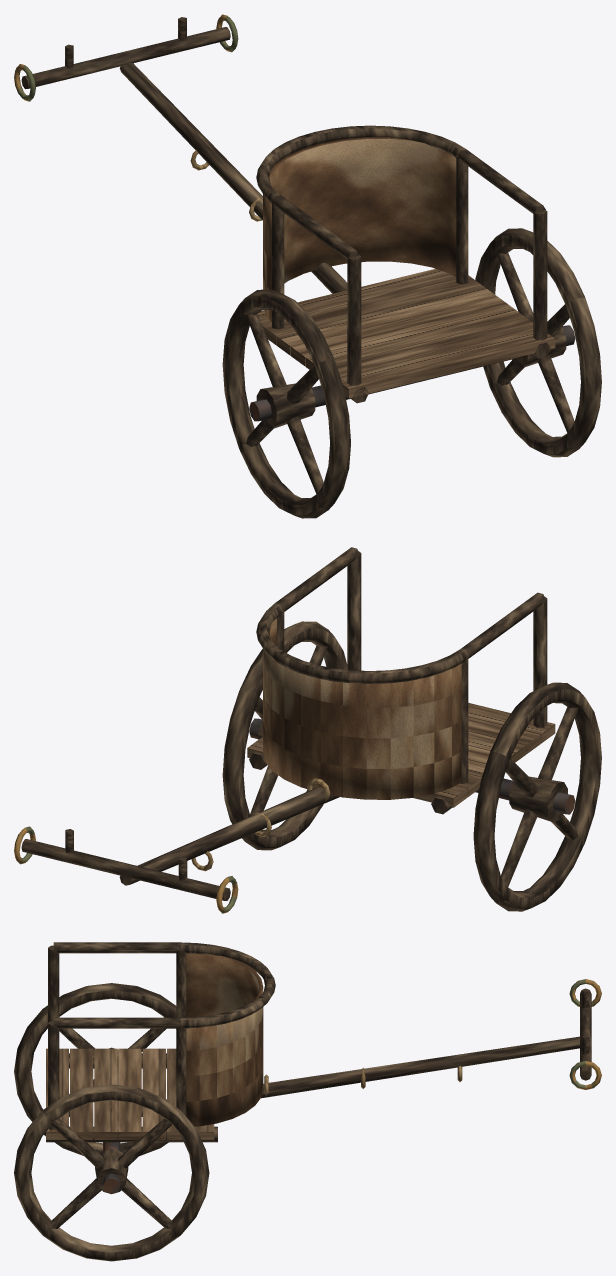
The model's file is carro_da_guerra.gltf.
3 views of the same model, one above another, from view 1: azimuth 30°, elevation 25°; view 2: azimuth 150°, elevation 25°; view 3: azimuth 270°, elevation 25° (orthographic). The views are drawn at different scales.
Parts seen in each view (by area): view 1: carro_da_guerra; view 2: carro_da_guerra; view 3: carro_da_guerra.
Boxes of the visible parts, bbox=[...] form: carro_da_guerra: bbox=[14, 14, 601, 518]; carro_da_guerra: bbox=[14, 547, 601, 913]; carro_da_guerra: bbox=[14, 942, 601, 1261].
Bounding box in the file's own units: 1.56 × 1.31 × 3.04.
6 materials, 6 textured.
